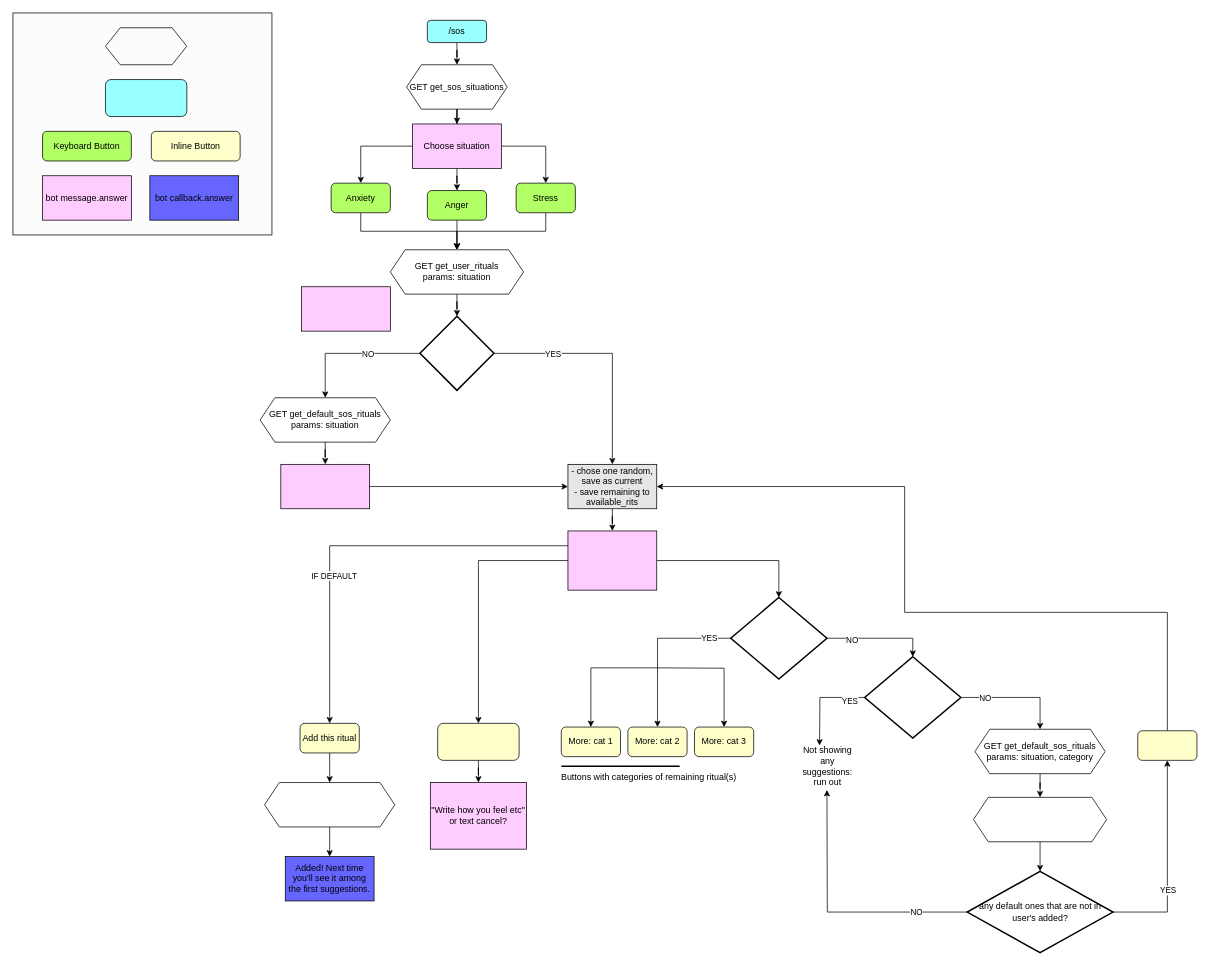
This 1210x966 diagram has some shape labels left out. The shapes that lost their labels are listed below. From the top down, each one's centre as x and y in pixels, then its label:
the point at 146,46: request
the point at 146,98: user input (text/ command)
the point at 456,353: any rituals?
the point at 325,486: "You have no added rituals, here's what I can offer"
the point at 612,560: <random ritual>
the point at 778,637: is there at least one more ritual for the situation?
the point at 912,697: has bot been showing default rituals?
the point at 478,741: Journal experience for this rit
the point at 1167,745: Suggest defaults
the point at 329,804: POST add_default_ritual_for_user param: ritual_id
the point at 1040,819: GET get_user_rituals params: situation, category
